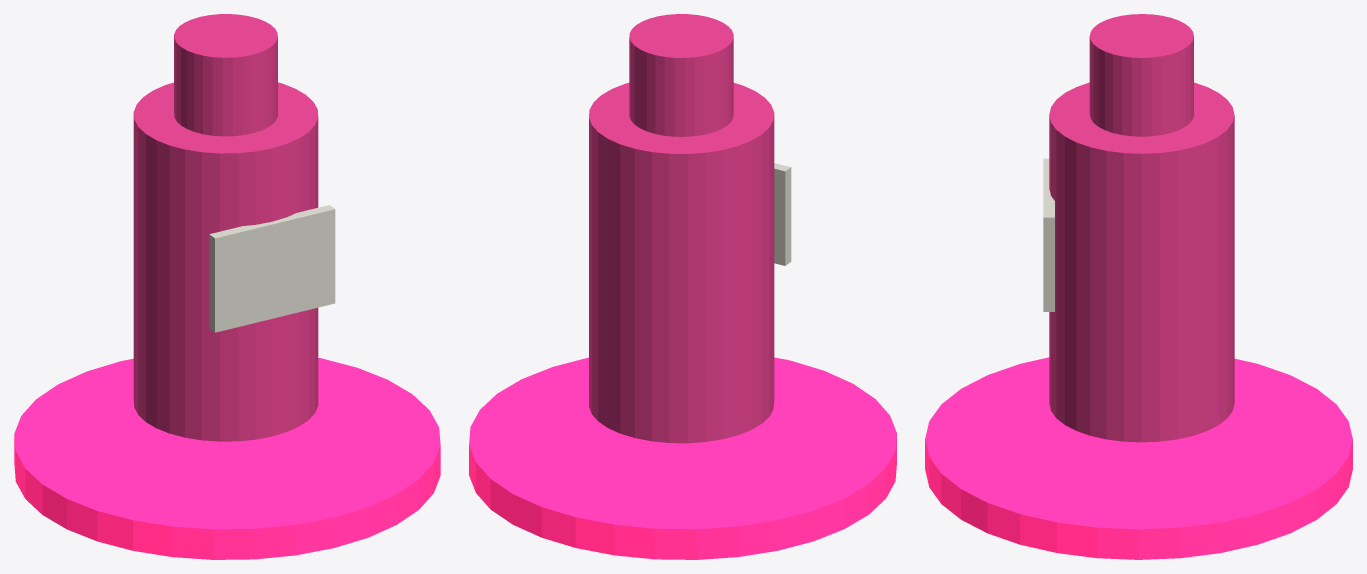
Rendered from beauty_serum_bottle.dae.
3 renders of one model, left to right at view 1: azimuth 30°, elevation 25°; view 2: azimuth 150°, elevation 25°; view 3: azimuth 270°, elevation 25°, orthographic.
Parts seen in each view (by area): view 1: 03_13_Popular_Beauty_Serum_Bottle_ROOT_base, 03_13_Popular_Beauty_Serum_Bottle_part_01, 03_13_Popular_Beauty_Serum_Bottle_part_03, 03_13_Popular_Beauty_Serum_Bottle_part_02; view 2: 03_13_Popular_Beauty_Serum_Bottle_part_01, 03_13_Popular_Beauty_Serum_Bottle_ROOT_base, 03_13_Popular_Beauty_Serum_Bottle_part_02, 03_13_Popular_Beauty_Serum_Bottle_part_03; view 3: 03_13_Popular_Beauty_Serum_Bottle_part_01, 03_13_Popular_Beauty_Serum_Bottle_ROOT_base, 03_13_Popular_Beauty_Serum_Bottle_part_02, 03_13_Popular_Beauty_Serum_Bottle_part_03.
Part boxes in pixels (x1=…): 03_13_Popular_Beauty_Serum_Bottle_ROOT_base: x1=14, y1=358, x2=440, y2=559; 03_13_Popular_Beauty_Serum_Bottle_part_01: x1=133, y1=82, x2=318, y2=441; 03_13_Popular_Beauty_Serum_Bottle_part_03: x1=209, y1=205, x2=335, y2=332; 03_13_Popular_Beauty_Serum_Bottle_part_02: x1=174, y1=14, x2=277, y2=136; 03_13_Popular_Beauty_Serum_Bottle_part_01: x1=589, y1=83, x2=774, y2=443; 03_13_Popular_Beauty_Serum_Bottle_ROOT_base: x1=469, y1=357, x2=896, y2=559; 03_13_Popular_Beauty_Serum_Bottle_part_02: x1=629, y1=14, x2=733, y2=136; 03_13_Popular_Beauty_Serum_Bottle_part_03: x1=774, y1=163, x2=791, y2=265; 03_13_Popular_Beauty_Serum_Bottle_part_01: x1=1049, y1=82, x2=1234, y2=442; 03_13_Popular_Beauty_Serum_Bottle_ROOT_base: x1=925, y1=357, x2=1352, y2=559; 03_13_Popular_Beauty_Serum_Bottle_part_02: x1=1089, y1=14, x2=1193, y2=136; 03_13_Popular_Beauty_Serum_Bottle_part_03: x1=1043, y1=158, x2=1054, y2=311.
Size of the model in its own units: 0.76 by 0.85 by 0.76.
